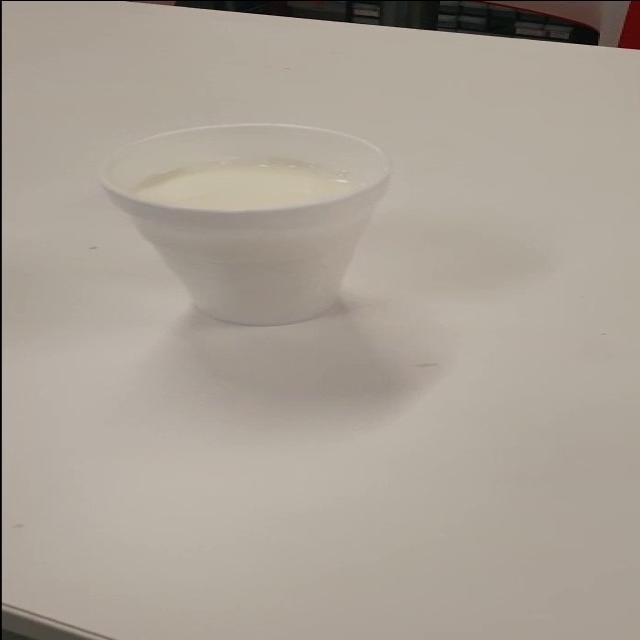Milk: (100, 115, 457, 336)
